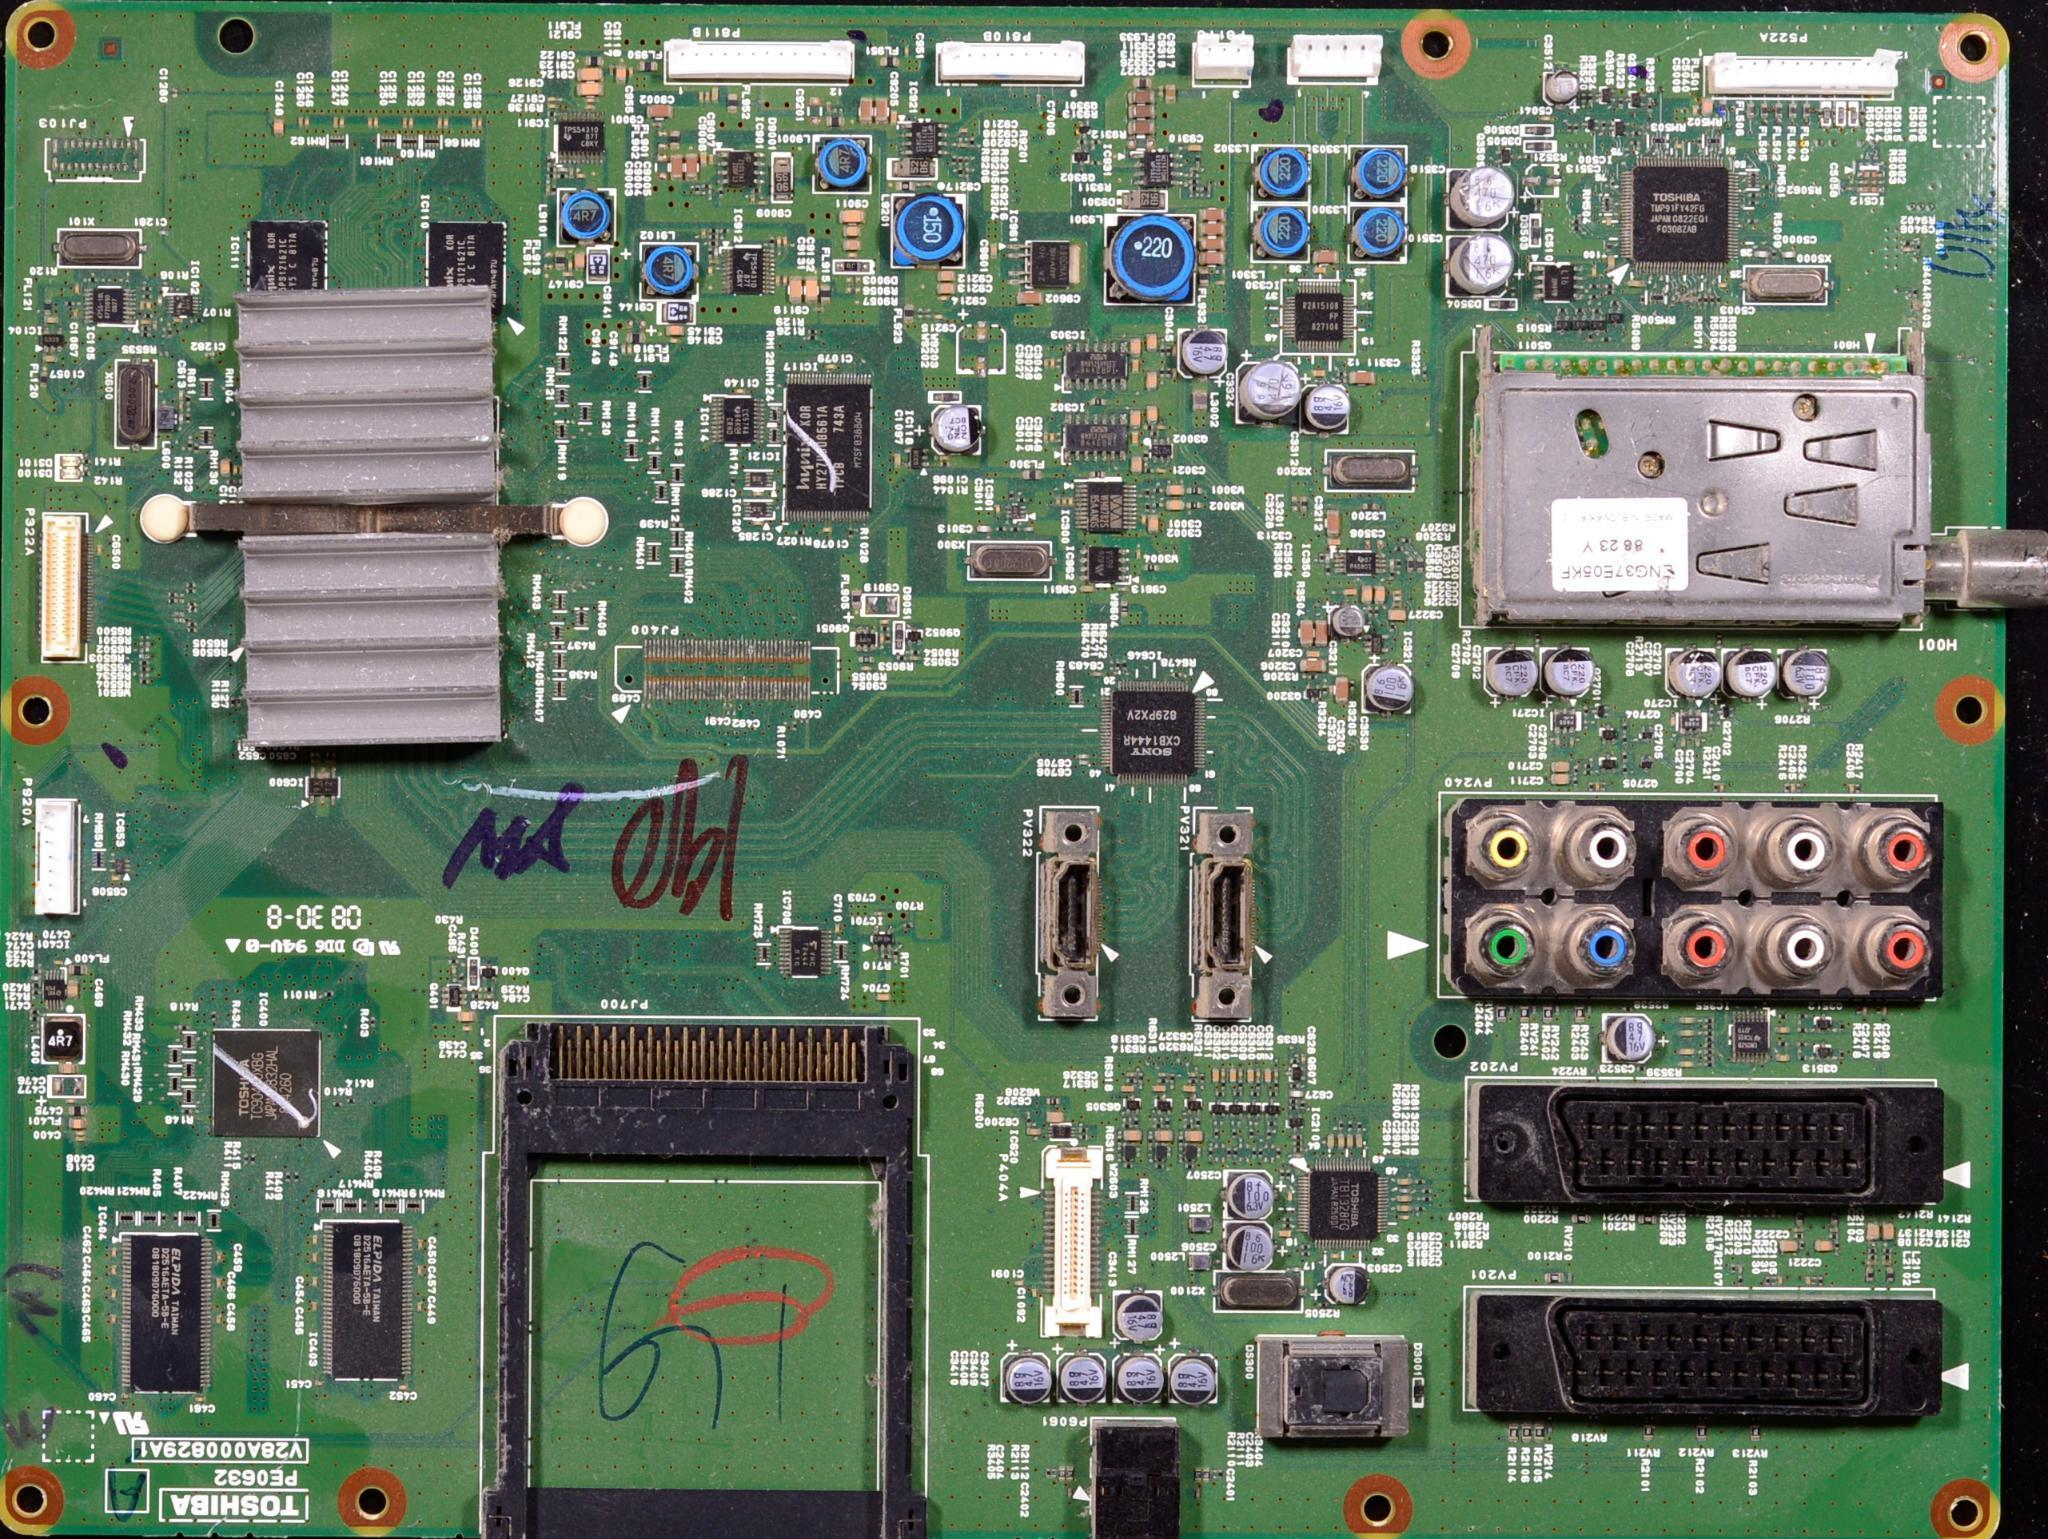Capacitor: (1198, 222, 1227, 238), (1125, 120, 1155, 134), (1311, 250, 1339, 265), (1199, 207, 1225, 223), (839, 208, 868, 222), (789, 274, 803, 303), (1198, 252, 1229, 265), (1126, 91, 1156, 104), (1326, 509, 1341, 535), (1350, 372, 1375, 387), (575, 83, 603, 96), (1016, 292, 1044, 305), (1299, 619, 1313, 645), (1126, 106, 1156, 118), (1314, 619, 1327, 646), (577, 68, 604, 81), (1300, 659, 1326, 672), (1335, 677, 1347, 704), (671, 154, 682, 181), (843, 238, 864, 252), (1164, 499, 1188, 511), (687, 154, 698, 180), (1199, 239, 1225, 250), (875, 96, 886, 121), (648, 106, 673, 117), (1813, 1239, 1834, 1252), (806, 276, 817, 300), (1124, 1129, 1143, 1142), (861, 98, 870, 125), (1147, 370, 1158, 392), (1184, 1130, 1204, 1142), (1550, 773, 1570, 785), (57, 1061, 75, 1074), (1881, 1221, 1894, 1239), (1130, 457, 1143, 475), (935, 271, 956, 282), (616, 63, 627, 84), (575, 251, 585, 274), (1779, 1239, 1798, 1251), (1147, 405, 1159, 424), (72, 1078, 85, 1095), (456, 1012, 476, 1023), (1866, 1222, 1878, 1240), (936, 283, 957, 293), (1130, 407, 1140, 428), (67, 980, 78, 999), (1362, 585, 1373, 604), (1388, 610, 1407, 621), (1701, 99, 1713, 116), (1047, 1110, 1064, 1122), (1676, 1015, 1698, 1024), (842, 228, 864, 237), (1149, 516, 1160, 534), (69, 1118, 88, 1128), (1164, 486, 1183, 496), (1551, 762, 1570, 772), (665, 327, 686, 336), (53, 1078, 64, 1095), (221, 459, 232, 476), (1375, 585, 1384, 605), (1167, 85, 1176, 104), (1155, 1130, 1172, 1140), (1354, 1133, 1364, 1150), (1605, 256, 1615, 273), (1147, 332, 1155, 353), (1245, 1068, 1256, 1083), (1229, 1067, 1238, 1085), (1024, 1127, 1042, 1136), (275, 118, 284, 136), (1263, 1066, 1272, 1083), (875, 991, 891, 1000), (1678, 1029, 1694, 1038), (310, 1250, 319, 1266), (108, 1262, 120, 1274), (1132, 338, 1141, 354), (1079, 584, 1095, 593), (1327, 1132, 1334, 1152), (43, 355, 58, 364), (1153, 1083, 1166, 1093), (1679, 1048, 1695, 1056), (1181, 1085, 1197, 1093), (1396, 1176, 1412, 1184), (1287, 1090, 1305, 1097), (119, 1392, 133, 1401), (1194, 1486, 1203, 1500), (1629, 280, 1643, 289), (1775, 1026, 1790, 1034), (1338, 1132, 1344, 1152), (1278, 1229, 1293, 1237), (417, 1237, 425, 1252), (1312, 266, 1327, 274), (45, 316, 60, 324), (1119, 1085, 1136, 1092), (194, 1394, 207, 1403), (1344, 587, 1357, 596), (460, 1024, 474, 1032), (1774, 1054, 1790, 1061), (991, 242, 998, 258), (1133, 358, 1140, 374), (1212, 1068, 1218, 1086), (872, 909, 887, 916), (1679, 1060, 1694, 1067), (216, 1275, 223, 1290), (894, 453, 901, 468), (810, 97, 823, 105), (416, 1264, 424, 1277), (109, 1288, 117, 1301), (1347, 1133, 1353, 1150), (1396, 1204, 1413, 1210), (712, 87, 719, 101), (1691, 105, 1698, 119), (1031, 1285, 1038, 1299), (1312, 371, 1326, 378), (1131, 431, 1138, 445), (216, 1250, 224, 1262), (1900, 246, 1916, 252), (1568, 737, 1576, 749), (1188, 145, 1201, 152), (1042, 430, 1049, 443), (994, 502, 1001, 515), (1329, 537, 1342, 544), (1222, 1068, 1227, 1086), (891, 110, 897, 125), (1538, 115, 1553, 121), (1399, 1194, 1414, 1200), (700, 152, 706, 167), (976, 526, 991, 532), (1306, 651, 1321, 657), (450, 964, 458, 975), (110, 1313, 118, 1324), (214, 1314, 222, 1325), (311, 1275, 318, 1287), (396, 1385, 408, 1392), (1590, 265, 1597, 277), (1716, 282, 1728, 289), (668, 336, 682, 342), (732, 388, 746, 394), (1088, 671, 1102, 677), (1670, 715, 1676, 729), (1694, 737, 1701, 749), (110, 1247, 118, 1257), (938, 295, 948, 303), (171, 317, 181, 325), (332, 116, 338, 129), (751, 521, 764, 527), (909, 655, 922, 661), (1400, 1187, 1411, 1194), (373, 118, 380, 129), (417, 1299, 422, 1314), (52, 959, 64, 965), (1287, 1189, 1293, 1201), (877, 619, 889, 625), (111, 873, 121, 880), (835, 923, 842, 933), (1400, 1214, 1410, 1221), (367, 115, 372, 129), (1014, 1279, 1024, 1286), (1068, 1485, 1073, 1499), (145, 301, 152, 311), (547, 95, 558, 101), (75, 1130, 86, 1136), (75, 1137, 86, 1143), (312, 1234, 318, 1245), (1554, 736, 1560, 747), (1159, 84, 1164, 97), (583, 105, 596, 110), (64, 1098, 77, 1103), (437, 116, 442, 129), (472, 117, 477, 130), (305, 118, 310, 131), (824, 365, 837, 370), (904, 45, 909, 58), (1791, 780, 1796, 793), (1394, 594, 1403, 601), (585, 98, 597, 103), (340, 116, 345, 128), (1793, 1226, 1803, 1232), (444, 117, 449, 129), (298, 117, 303, 129), (1804, 1275, 1810, 1285), (314, 1380, 324, 1386), (708, 154, 714, 164), (1606, 217, 1612, 227), (847, 252, 859, 257), (620, 344, 625, 356), (1393, 589, 1403, 595), (1392, 601, 1404, 606), (860, 666, 872, 671), (485, 992, 493, 999), (75, 282, 79, 296), (1301, 1053, 1306, 1064), (547, 104, 558, 109), (777, 236, 782, 247), (73, 309, 78, 320), (1050, 359, 1055, 370), (609, 66, 614, 77), (1331, 1252, 1340, 1258), (959, 127, 968, 133), (781, 277, 787, 286), (1680, 738, 1686, 747), (1719, 782, 1725, 791), (478, 117, 482, 130), (561, 272, 574, 276), (178, 388, 182, 401), (699, 91, 704, 101), (403, 118, 408, 128), (1779, 1275, 1784, 1285), (312, 1301, 317, 1311), (627, 345, 632, 355), (1043, 359, 1048, 369), (753, 491, 763, 496), (628, 66, 633, 76), (1595, 782, 1600, 792), (1676, 142, 1682, 150), (569, 259, 573, 271), (880, 633, 884, 645), (1848, 784, 1854, 792), (705, 93, 710, 102), (1863, 1007, 1868, 1016), (1828, 1226, 1837, 1231), (783, 237, 788, 246), (1050, 432, 1055, 441), (822, 526, 831, 531), (1136, 550, 1141, 559), (1883, 1005, 1887, 1016), (776, 275, 780, 286), (1118, 587, 1129, 591), (409, 117, 413, 127), (1142, 515, 1146, 525), (922, 181, 931, 185), (141, 319, 150, 323), (179, 401, 183, 410), (140, 301, 143, 311)
Connector: (1463, 352, 2047, 631), (1445, 800, 1934, 992), (1470, 1291, 1939, 1417), (1464, 1085, 1945, 1201)
IC: (1621, 154, 1730, 266), (212, 1029, 320, 1137), (131, 1234, 201, 1393), (332, 1222, 403, 1376), (787, 381, 871, 511), (1112, 690, 1194, 775), (251, 221, 325, 291), (429, 221, 501, 286), (1315, 1164, 1378, 1238), (1296, 293, 1343, 341), (1087, 483, 1122, 533), (1063, 421, 1121, 450), (1031, 241, 1069, 285), (1065, 353, 1123, 381), (557, 122, 605, 153), (725, 397, 756, 441), (792, 929, 821, 975), (733, 249, 762, 293), (1732, 1021, 1769, 1055), (92, 287, 125, 323), (1086, 545, 1118, 582), (726, 150, 755, 186), (1144, 152, 1170, 186), (910, 123, 936, 156), (307, 778, 338, 797), (1346, 551, 1373, 572), (175, 296, 194, 317)
Resistor: (1202, 1467, 1210, 1482), (1194, 1467, 1202, 1482), (139, 678, 156, 685), (1058, 1466, 1065, 1482), (138, 664, 154, 671), (1066, 1466, 1073, 1481), (1045, 1467, 1052, 1480), (138, 653, 153, 659), (137, 633, 149, 640), (139, 641, 151, 647), (138, 648, 152, 653), (137, 672, 151, 677), (370, 1016, 376, 1027), (1799, 707, 1810, 713), (236, 697, 242, 707), (958, 168, 963, 179), (142, 326, 153, 331), (1218, 1468, 1223, 1478), (140, 333, 150, 338), (188, 440, 193, 450), (195, 442, 200, 452), (81, 458, 91, 463), (81, 470, 91, 475), (139, 659, 149, 664), (1713, 782, 1718, 792), (1855, 784, 1860, 794), (1878, 1006, 1883, 1015), (952, 156, 956, 167), (959, 156, 963, 166), (167, 327, 171, 337), (230, 697, 234, 706), (1796, 782, 1800, 791), (1784, 783, 1788, 792), (1856, 1007, 1860, 1015), (970, 138, 974, 146)
